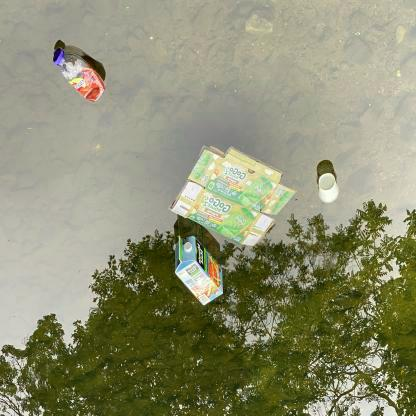Plastic: (49, 42, 110, 107)
Trash: (314, 169, 340, 206)
